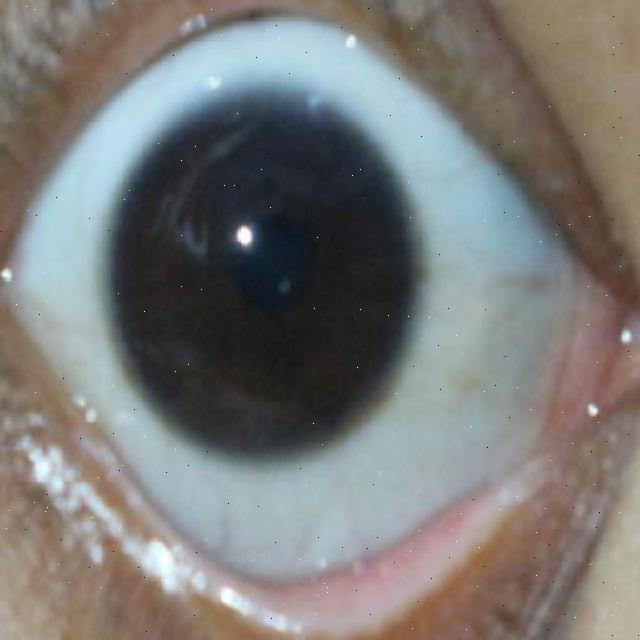Normal: (102, 90, 420, 468)
